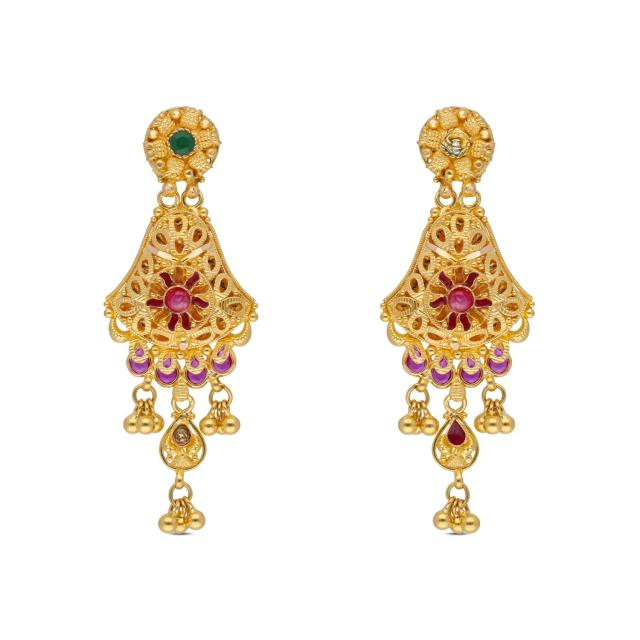missing gem: (444, 129, 470, 156), (173, 421, 190, 444)
